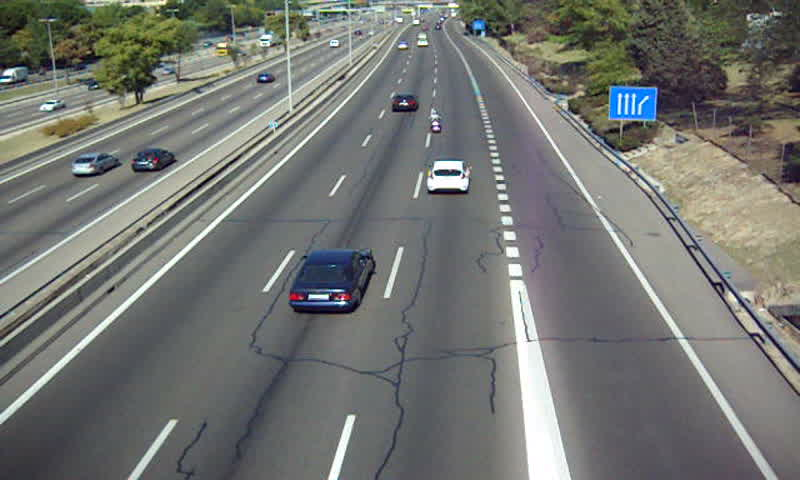car: (288, 247, 375, 312), (425, 159, 473, 195), (390, 93, 419, 112)
motorcycle: (428, 109, 444, 135)
